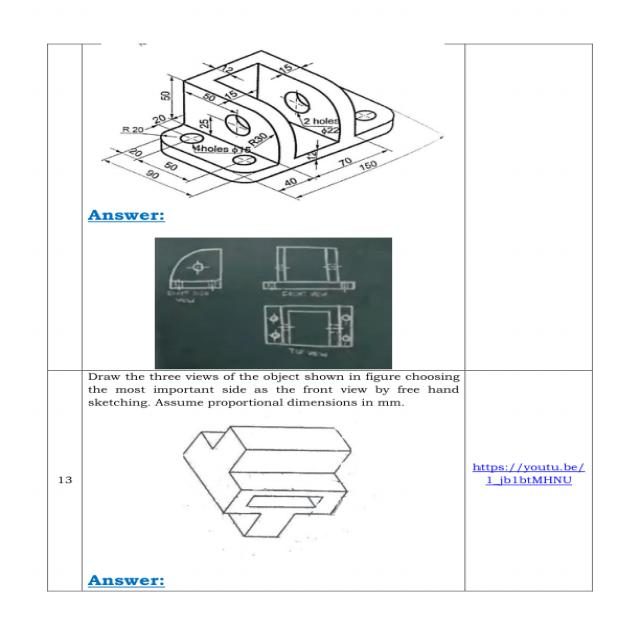Drawings: (98, 48, 452, 202), (173, 421, 358, 545), (260, 244, 360, 291), (262, 302, 358, 349), (165, 246, 230, 292)
